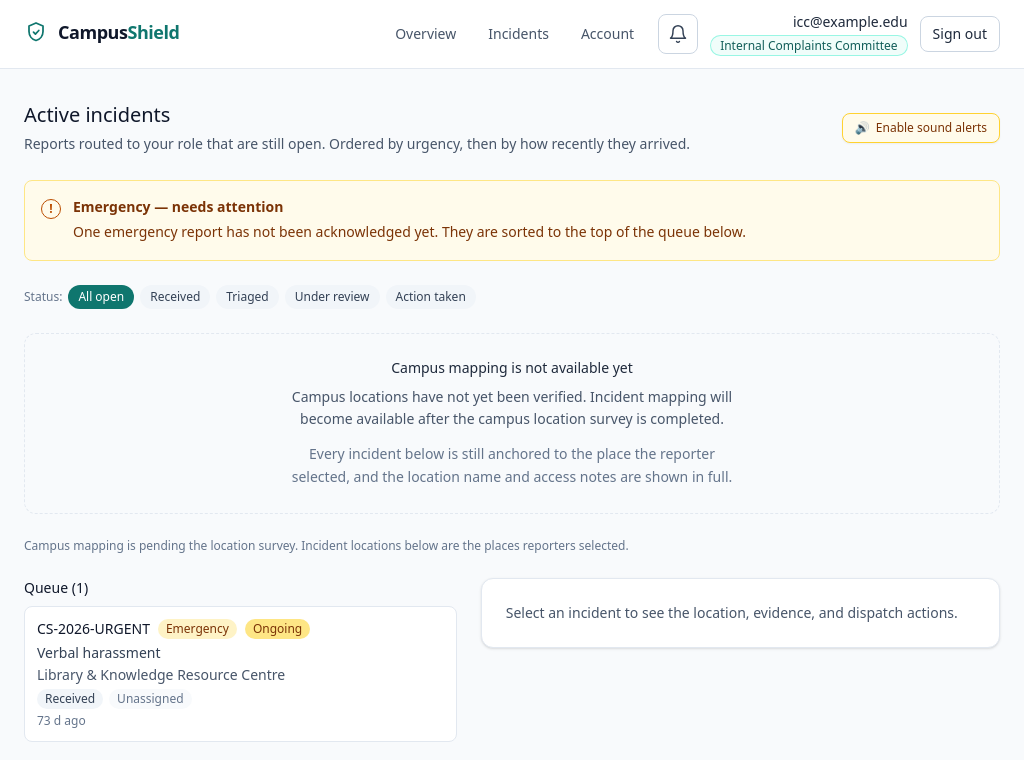
Test: IncidentsPage — privacy › never renders a reporter identity, path, or filename
The width and height of the screenshot is (1024, 760).
Click the button "CS-2026-URGENT".
click(240, 674)  # box [24,606,457,742]
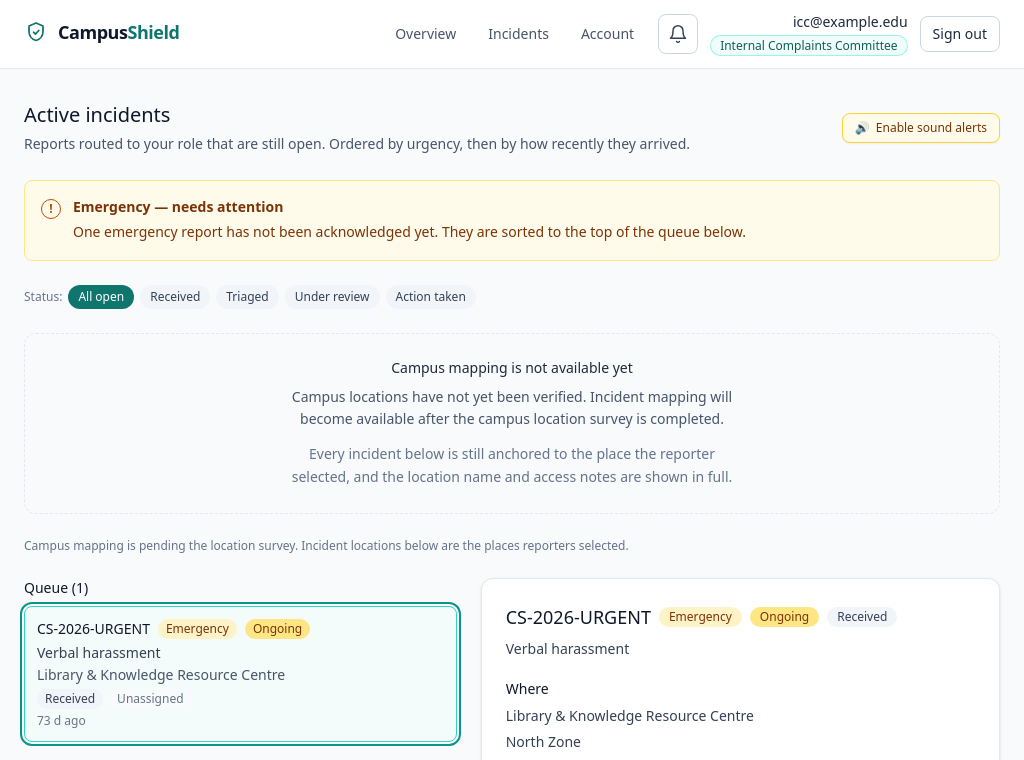
expect the heading "CS-2026-URGENT" is shown: met, box [506,602,651,630]
